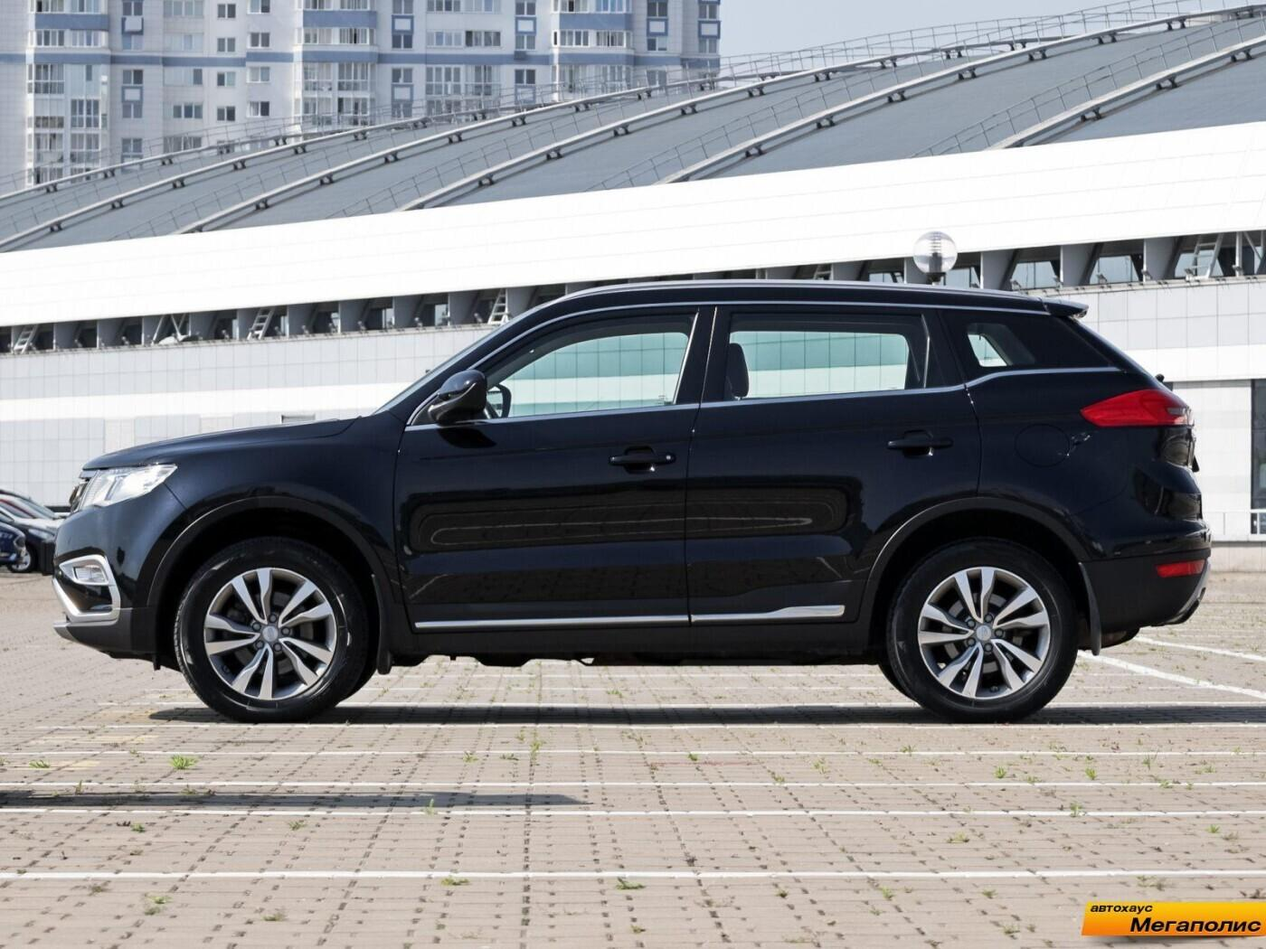Atlas_2016-2023: (45, 274, 1212, 732)
